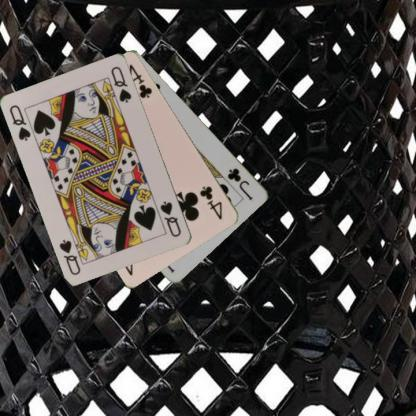4c: (197, 183, 224, 221)
Jc: (225, 166, 254, 204)
Qs: (7, 102, 33, 143), (158, 198, 183, 239)
